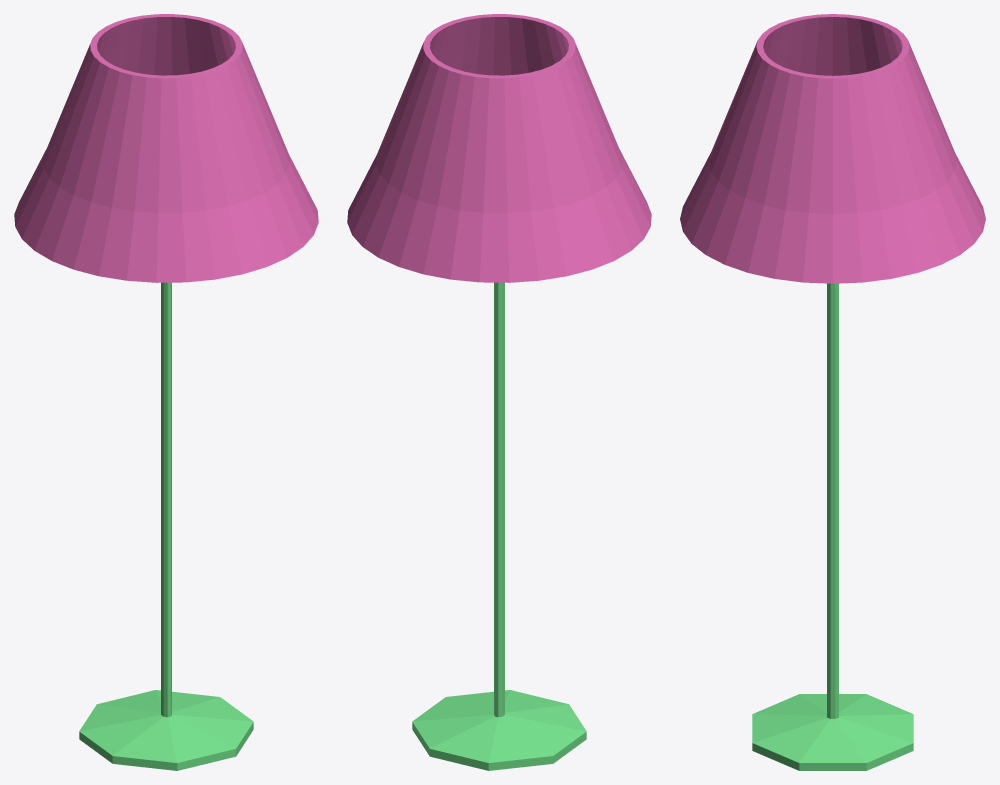
The model's file is standing lamp.fbx.
3 views of the same model, side by side, from view 1: azimuth 30°, elevation 25°; view 2: azimuth 150°, elevation 25°; view 3: azimuth 270°, elevation 25° (orthographic).
Visible parts, largest first — view 1: lamp head, leg; view 2: lamp head, leg; view 3: lamp head, leg.
Part boxes in pixels (left/top/right/bottom): lamp head: left=14, top=14, right=318, bottom=282; leg: left=79, top=282, right=253, bottom=770; lamp head: left=347, top=14, right=651, bottom=282; leg: left=412, top=282, right=586, bottom=770; lamp head: left=680, top=14, right=985, bottom=283; leg: left=752, top=283, right=913, bottom=770.
Size of the model in its own units: 222 by 551 by 222.
